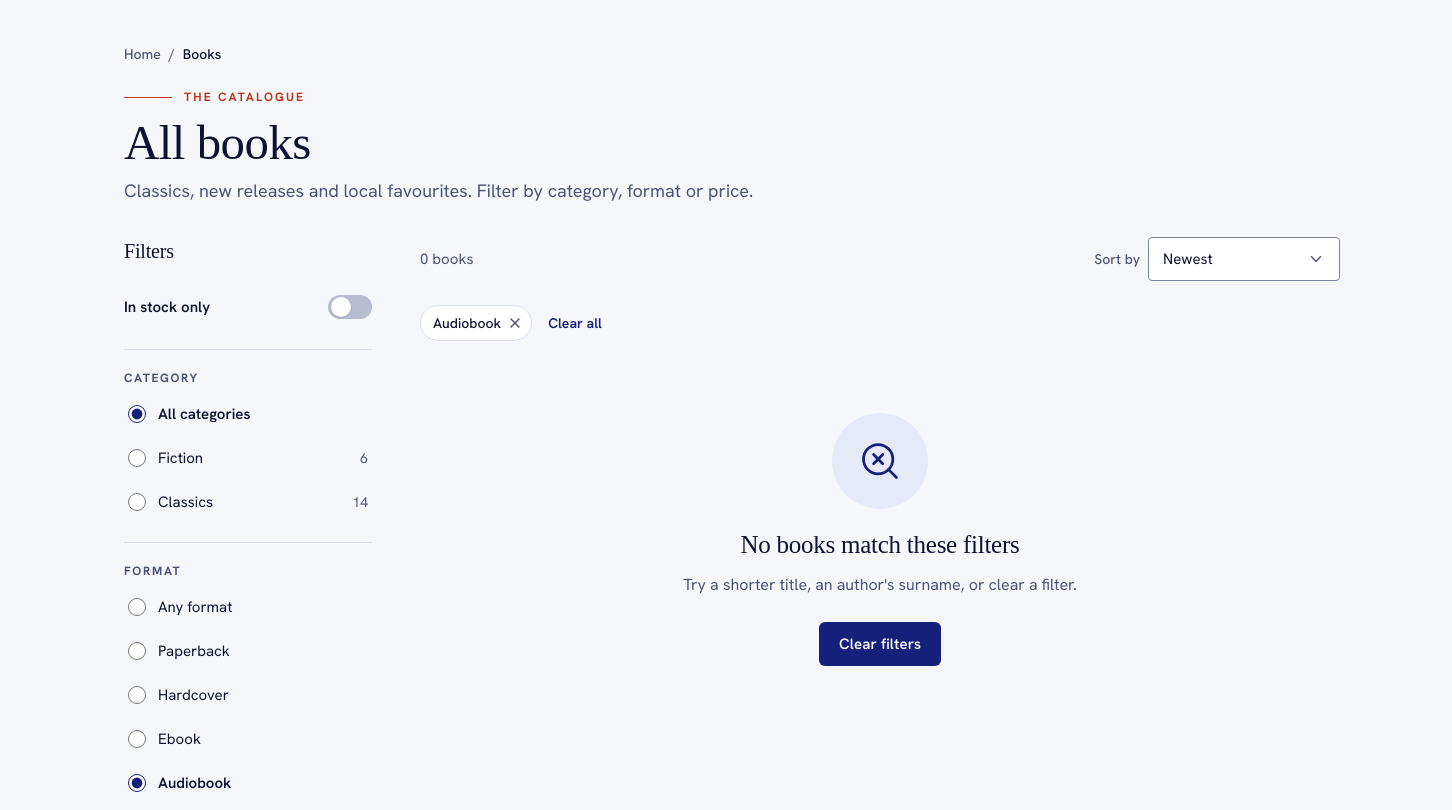
Test: BooksPage › offers to clear filters when nothing matches
Expected: the heading "No books match these filters" is shown, x1=740 y1=529 x2=1020 y2=560
Click the button "Clear filters". click: (880, 644)
box: x1=819 y1=622 x2=941 y2=666
(page scrolled)
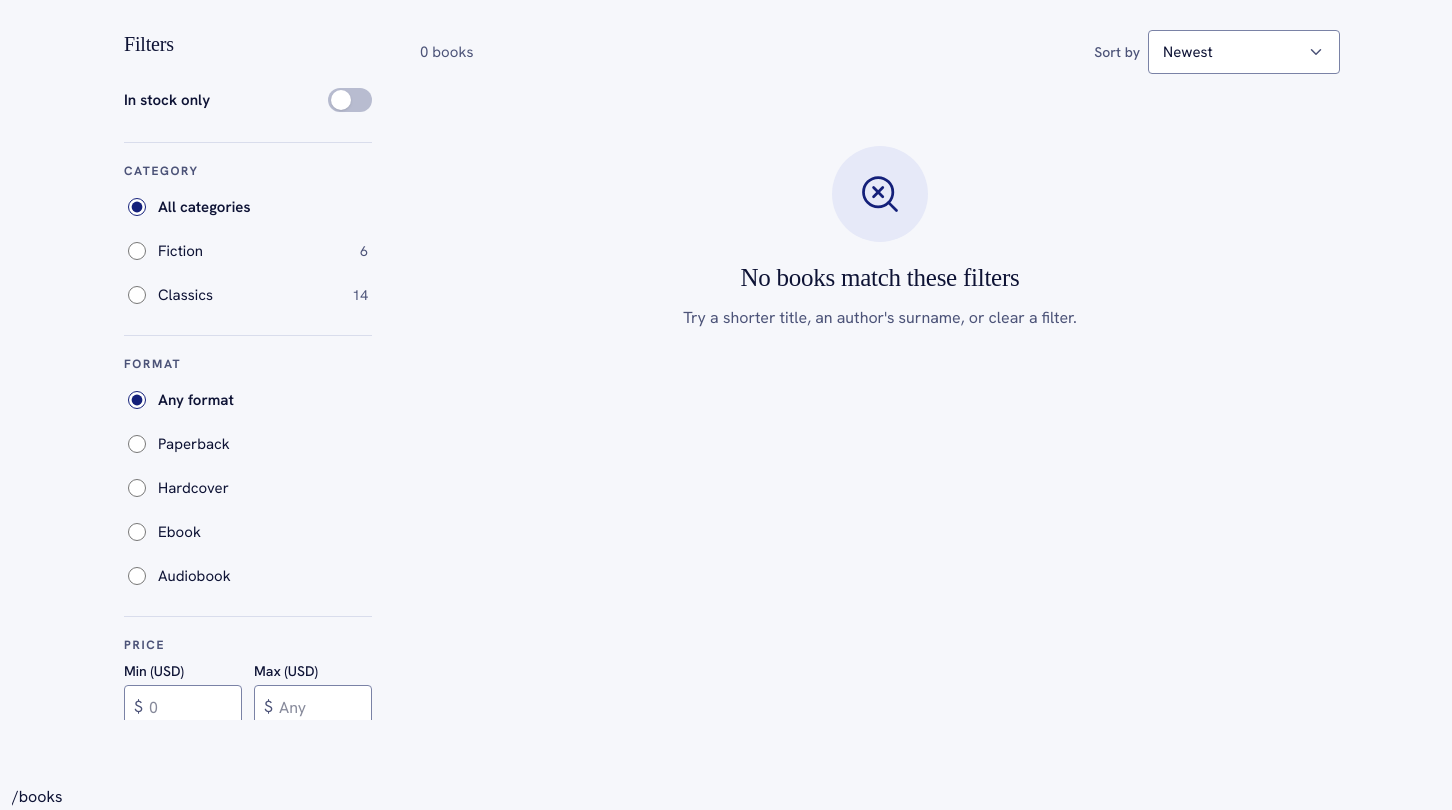
Expected: the text with test id "where" reads "/books", x1=12 y1=786 x2=63 y2=807
